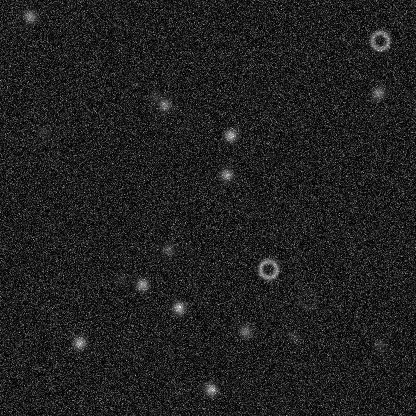Ring: (256, 257, 280, 281), (296, 287, 320, 311), (367, 28, 391, 52)
Spot: (35, 123, 51, 139), (218, 166, 234, 182), (113, 270, 129, 286), (237, 323, 253, 339), (222, 127, 238, 143), (160, 241, 176, 257), (147, 89, 163, 105), (286, 329, 302, 345), (134, 276, 150, 292), (71, 334, 87, 350), (370, 84, 386, 100), (202, 381, 218, 397), (170, 299, 186, 315), (156, 96, 172, 112), (21, 8, 37, 24), (371, 336, 387, 352)
